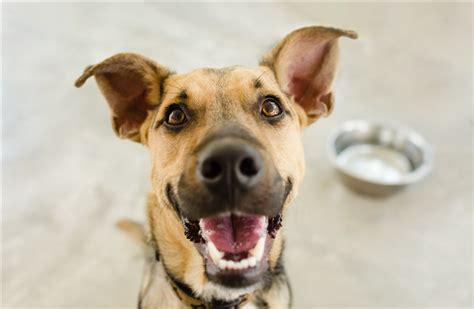dog: (75, 25, 356, 308)
